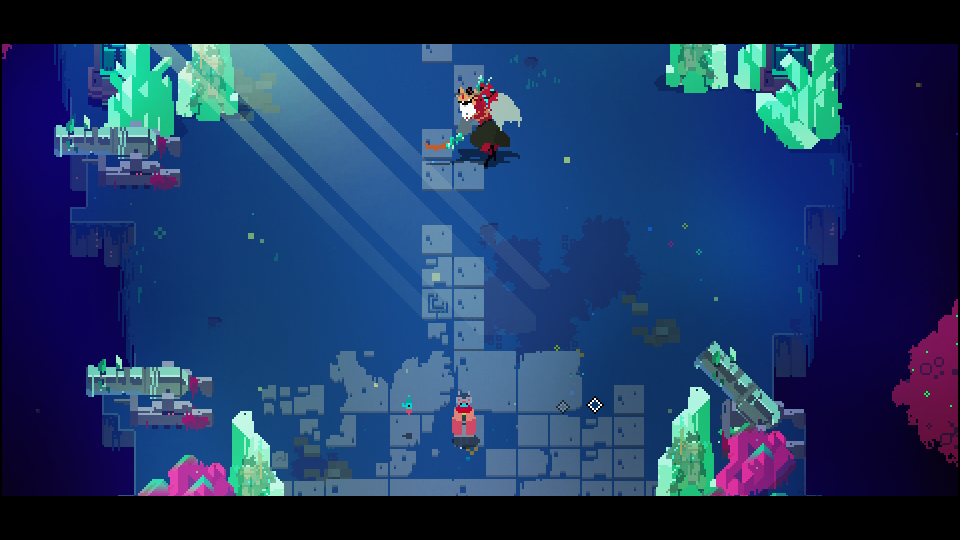hanged_man: (438, 68, 525, 165)
player: (450, 387, 477, 440)
